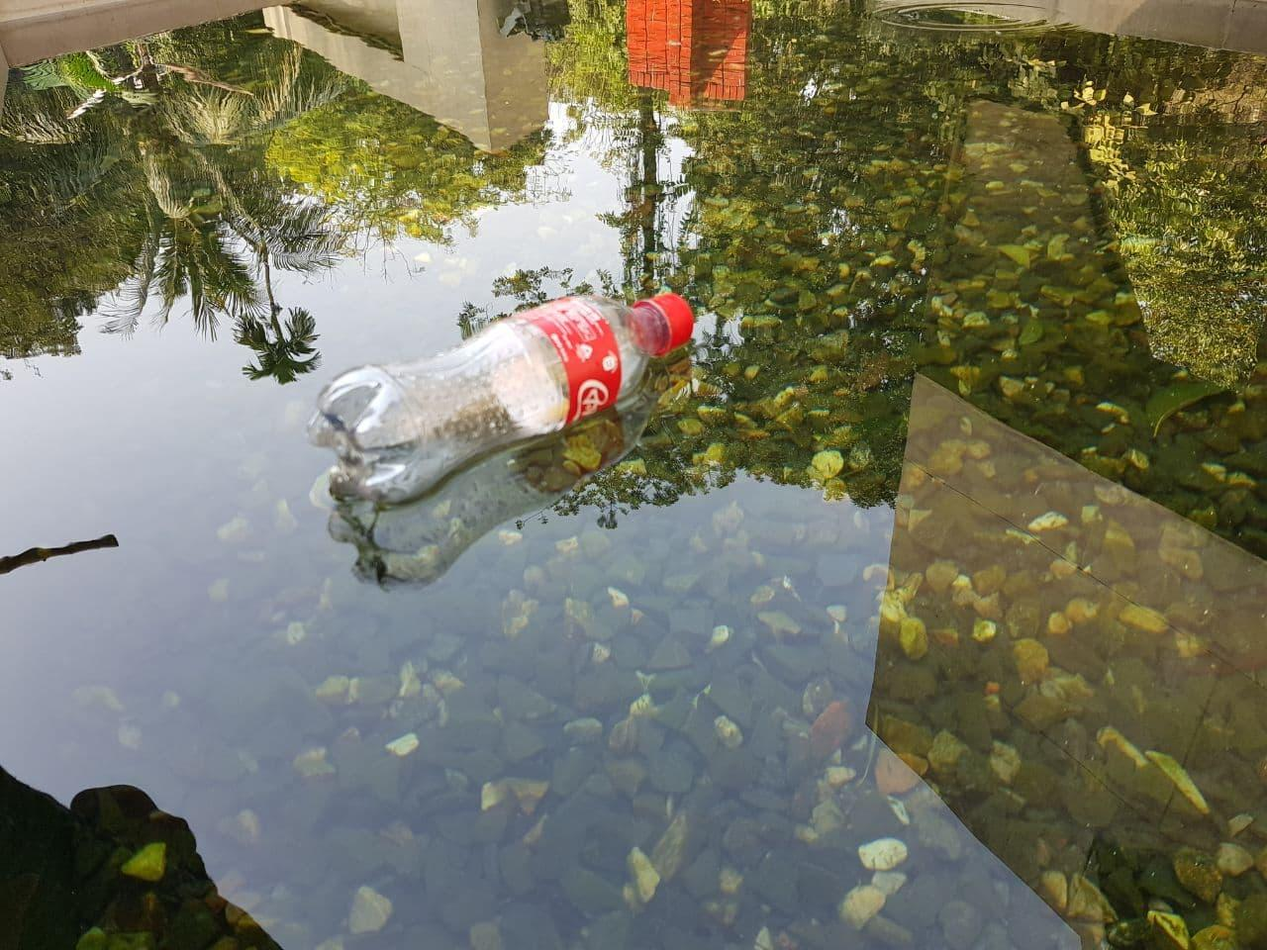trash_plastic: (314, 281, 695, 505)
